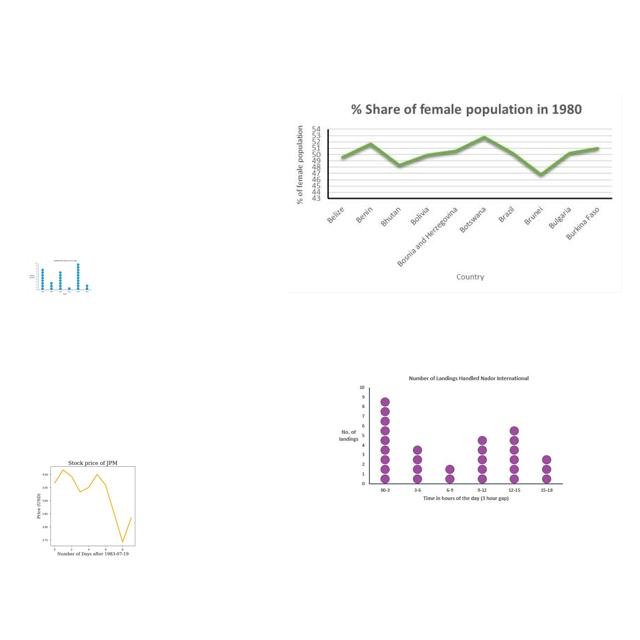Graph: (289, 93, 622, 293), (331, 370, 568, 507), (16, 454, 166, 557), (27, 258, 93, 297)
